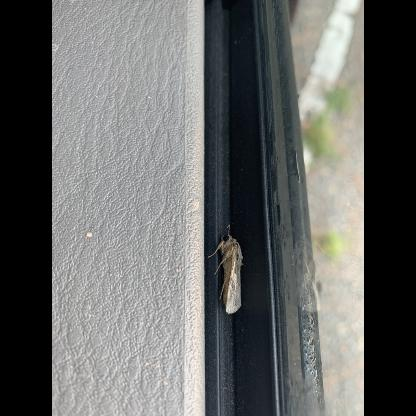Fall Armyworm Moth: (207, 223, 245, 315)
